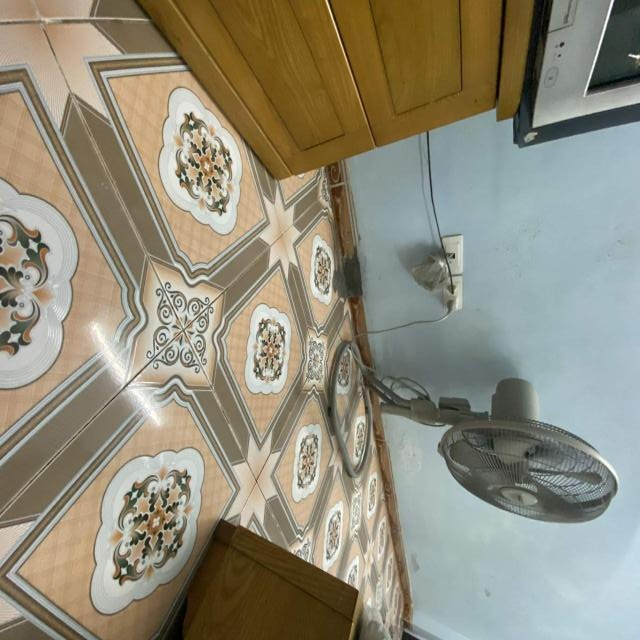outlet: (441, 234, 463, 274), (443, 276, 463, 311)
